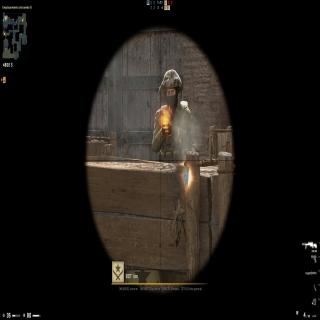CT-Head: (160, 73, 180, 108)
